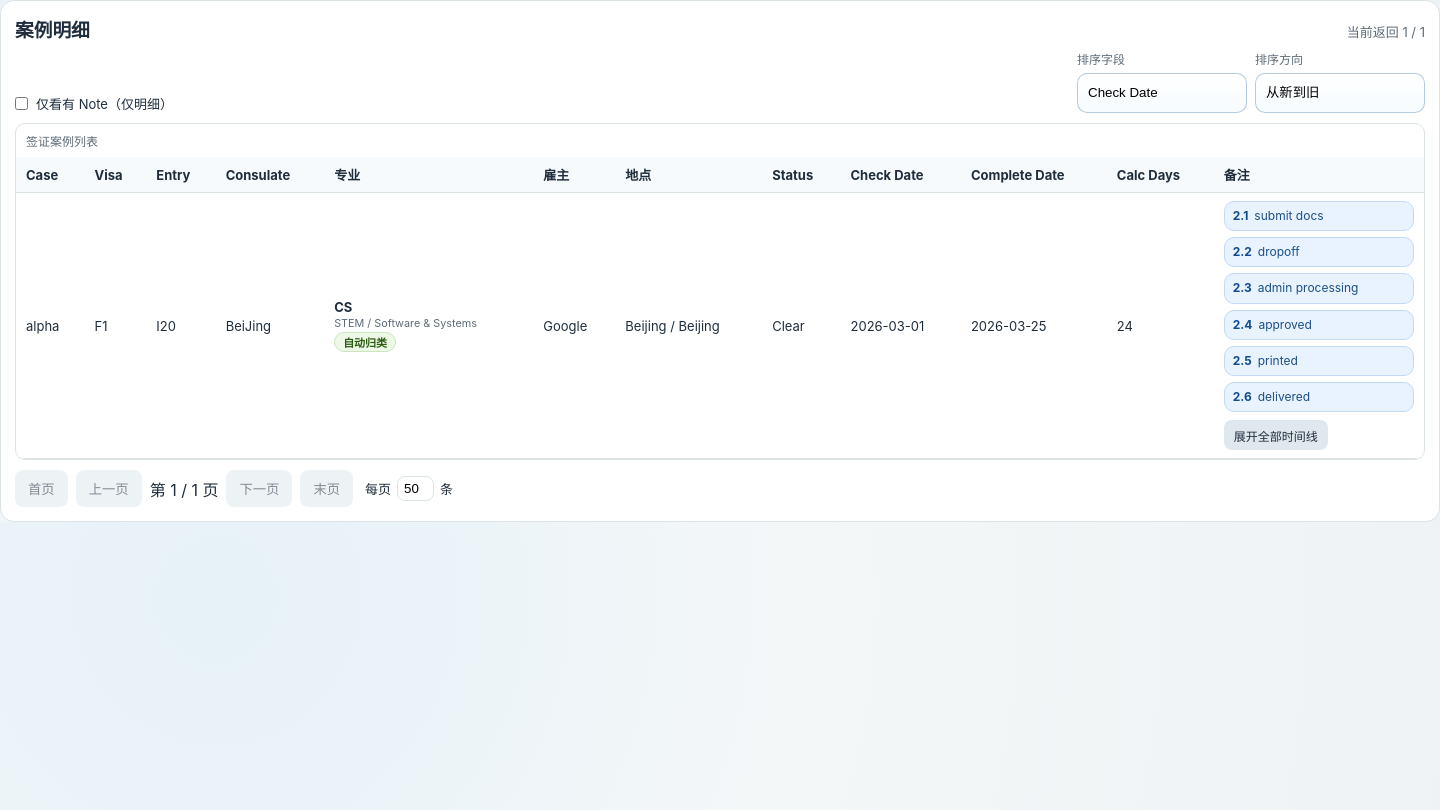
Test: CaseTable › 时间线默认折叠并支持展开收起
The width and height of the screenshot is (1440, 810).
Expected: the text "2.7" is not shown
Click the button "展开全部时间线": (1276, 435) left=1224, top=420, right=1328, bottom=450
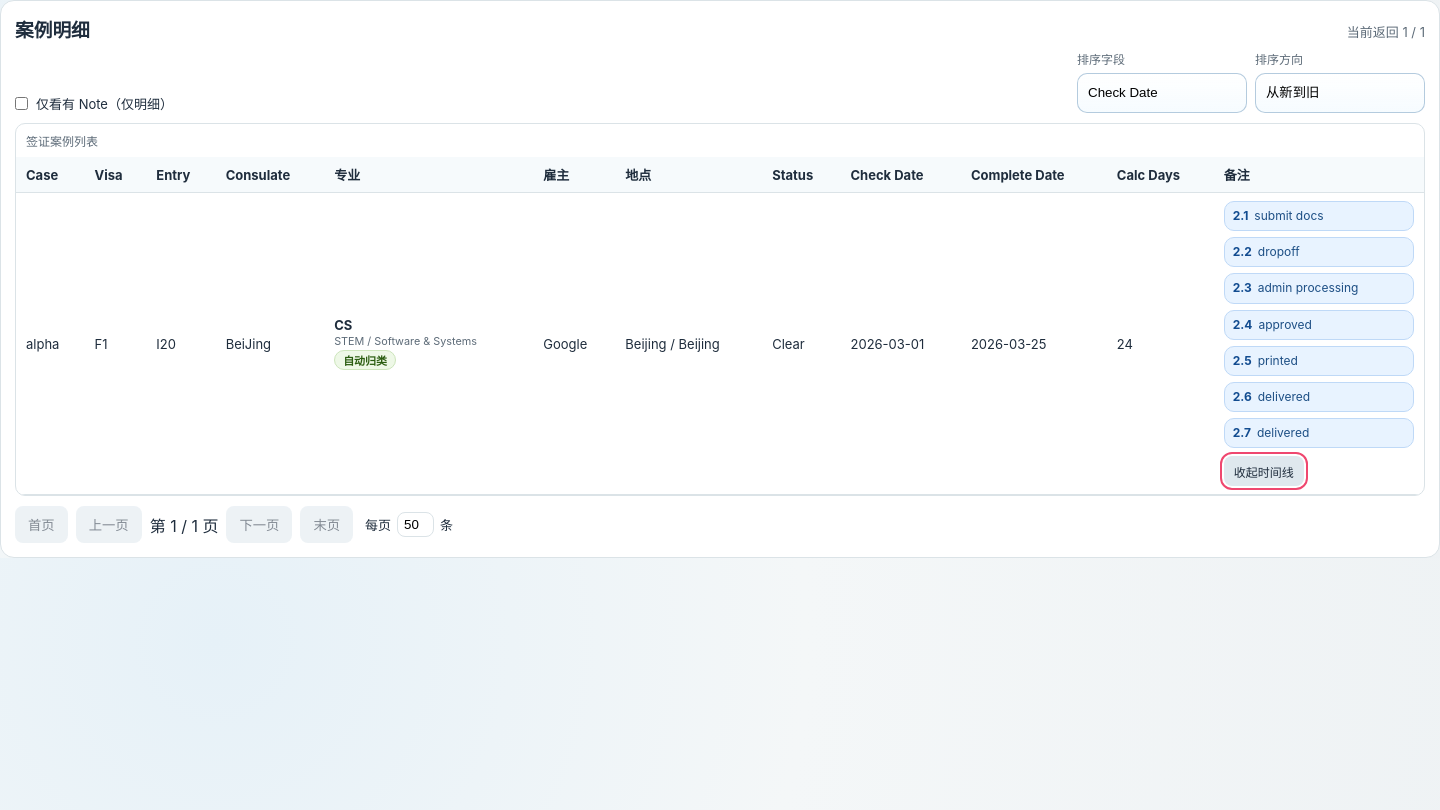
Now the text "2.7" is shown, box left=1233, top=425, right=1251, bottom=441
Click the button "收起时间线": (1264, 471) left=1224, top=456, right=1304, bottom=486
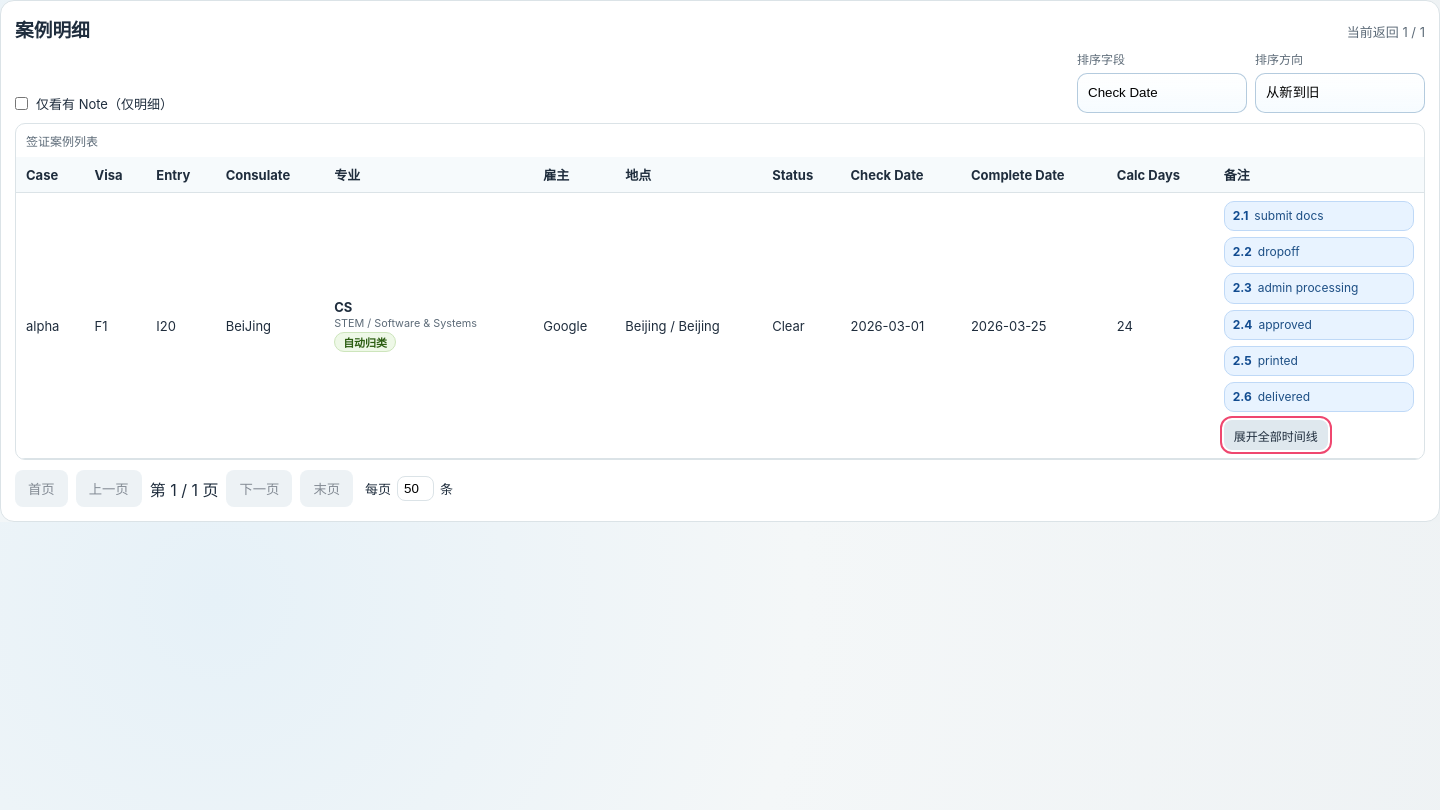
Now the text "2.7" is gone
